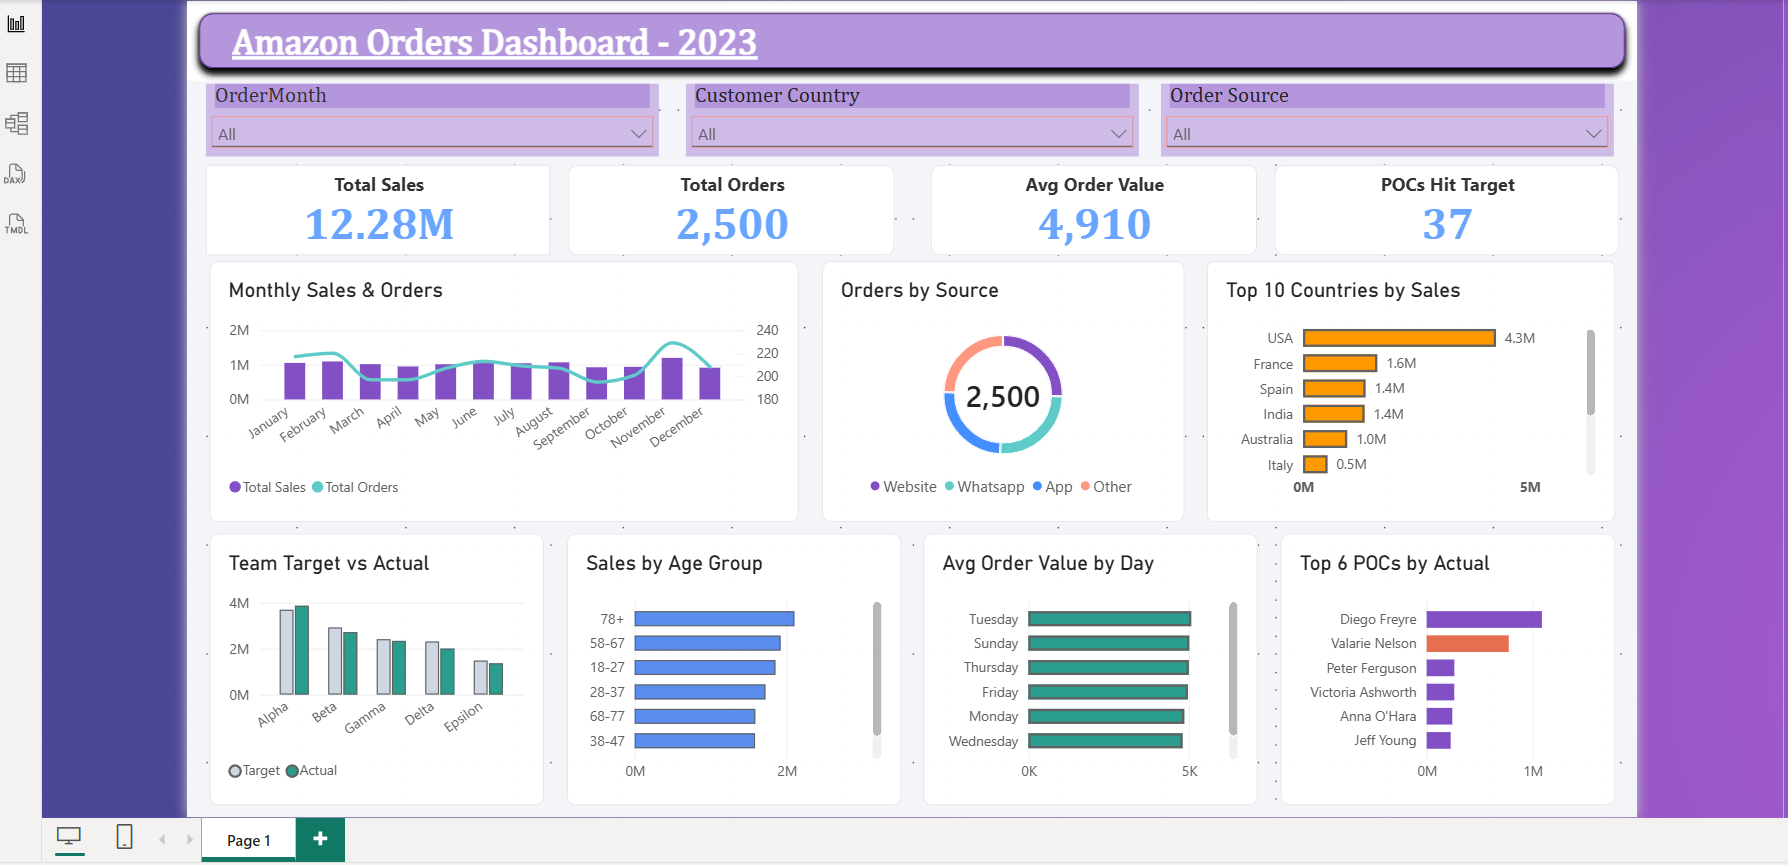

The page's visual inventory and layout, read from the dashboard file:
{"tool":"powerbi","page":{"name":"Page 1","canvas":[1280,720],"ordinal":0},"visuals":[{"type":"cardVisual","fields":{"Data":["Orders.Total Sales"]},"box":[16,144,304,80],"z":0},{"type":"cardVisual","fields":{"Data":["Orders.Total Orders"]},"box":[336,144,288,80],"z":1000},{"type":"cardVisual","fields":{"Data":["Orders.Avg Order Value"]},"box":[656,144,288,80],"z":2000},{"type":"cardVisual","fields":{"Data":["Sales Targets.POCs Hit Target"]},"box":[960,144,304,80],"z":3000},{"type":"lineClusteredColumnComboChart","title":"Monthly Sales & Orders","fields":{"Category":["Orders.OrderMonth"],"Y":["Orders.Total Sales"],"Y2":["Orders.Total Orders"]},"box":[20,230,520,230],"z":4000},{"type":"donutChart","title":"Orders by Source","fields":{"Category":["Orders.Order Source"],"Y":["Orders.Total Orders"]},"box":[560,230,320,230],"z":5000},{"type":"clusteredBarChart","title":"Top 10 Countries by Sales","fields":{"Category":["Orders.Customer Country"],"Y":["Orders.Total Sales"]},"box":[900,230,360,230],"z":6000},{"type":"clusteredColumnChart","title":"Team Target vs Actual","fields":{"Category":["Sales Targets.Sales Team"],"Y":["Sales Targets.Target","Sales Targets.Actual"]},"box":[20,470,295,240],"z":7000},{"type":"clusteredBarChart","title":"Sales by Age Group","fields":{"Category":["Orders.Age Group"],"Y":["Orders.Total Sales"]},"box":[335,470,295,240],"z":8000},{"type":"clusteredBarChart","title":"Avg Order Value by Day","fields":{"Category":["Orders.OrderDay"],"Y":["Orders.Avg Order Value"]},"box":[650,470,295,240],"z":9000},{"type":"clusteredBarChart","title":"Top 6 POCs by Actual","fields":{"Category":["Sales Targets.Sales POC"],"Y":["Sales Targets.Actual"]},"box":[965,470,295,240],"z":10000},{"type":"slicer","fields":{"Values":["Orders.OrderMonth"]},"box":[16,73,400,64],"z":11000},{"type":"slicer","fields":{"Values":["Orders.Customer Country"]},"box":[440,73,400,64],"z":12000},{"type":"slicer","fields":{"Values":["Orders.Order Source"]},"box":[860,73,400,64],"z":13000},{"type":"shape","box":[0,0,1280,70],"z":15001},{"type":"textbox","box":[40,20,700,40],"z":15501}]}

Visuals, with their boxes on the page's 1280x720 design canvas (x1, y1, x2, y2). These are canvas units, not pixel positions in the 1788x865 screenshot, which may show the page scaled, cropped or inside an application window:
cardVisual - Orders.Total Sales: x1=16, y1=144, x2=320, y2=224
cardVisual - Orders.Total Orders: x1=336, y1=144, x2=624, y2=224
cardVisual - Orders.Avg Order Value: x1=656, y1=144, x2=944, y2=224
cardVisual - Sales Targets.POCs Hit Target: x1=960, y1=144, x2=1264, y2=224
"Monthly Sales & Orders" lineClusteredColumnComboChart: x1=20, y1=230, x2=540, y2=460
"Orders by Source" donutChart: x1=560, y1=230, x2=880, y2=460
"Top 10 Countries by Sales" clusteredBarChart: x1=900, y1=230, x2=1260, y2=460
"Team Target vs Actual" clusteredColumnChart: x1=20, y1=470, x2=315, y2=710
"Sales by Age Group" clusteredBarChart: x1=335, y1=470, x2=630, y2=710
"Avg Order Value by Day" clusteredBarChart: x1=650, y1=470, x2=945, y2=710
"Top 6 POCs by Actual" clusteredBarChart: x1=965, y1=470, x2=1260, y2=710
slicer - Orders.OrderMonth: x1=16, y1=73, x2=416, y2=137
slicer - Orders.Customer Country: x1=440, y1=73, x2=840, y2=137
slicer - Orders.Order Source: x1=860, y1=73, x2=1260, y2=137
shape: x1=0, y1=0, x2=1280, y2=70
textbox: x1=40, y1=20, x2=740, y2=60
